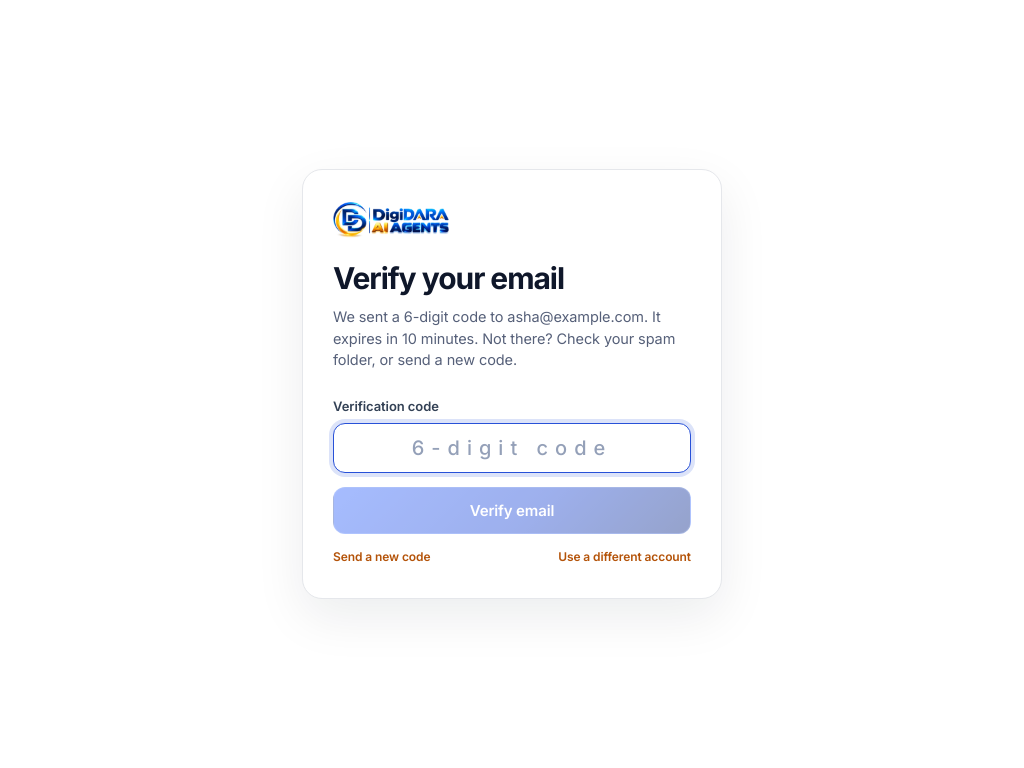
Test case: a new code can be requested, and the cooldown message is shown
Click the button "Send a new code": coordinates (382, 557) [333,548,430,566]
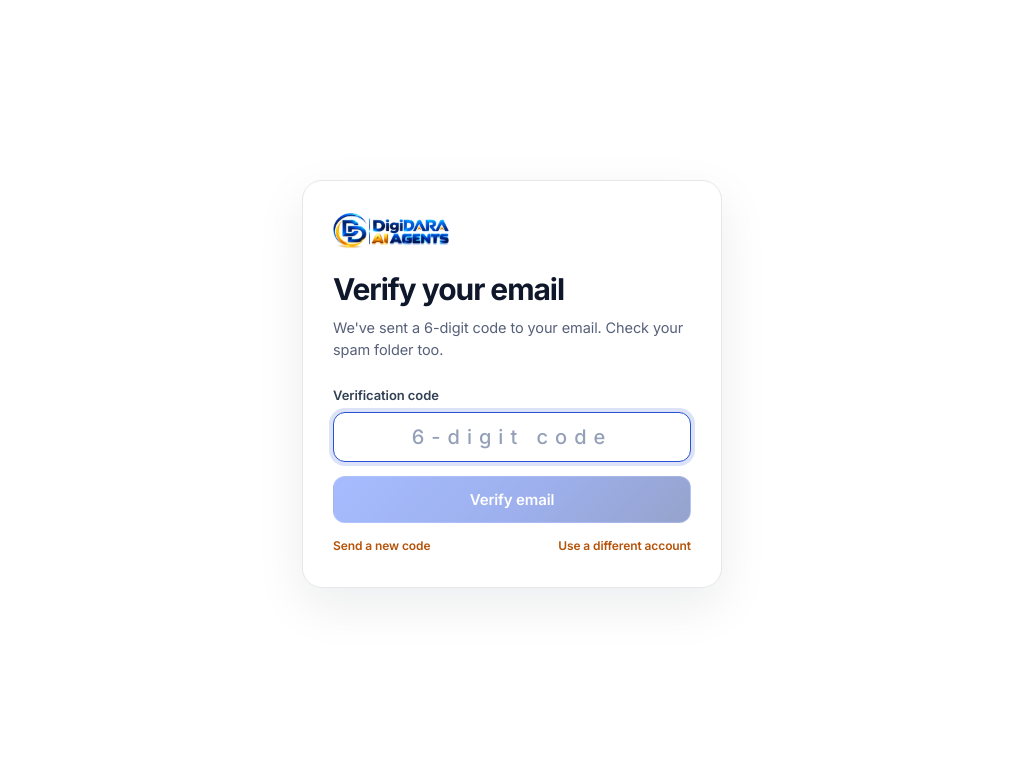
Expected: the message reads "We've sent a 6-digit code to your email. Check your spam folder too.", [333,319,683,358]
Click the button "Send a new code": coordinates (382, 546) [333,537,430,555]
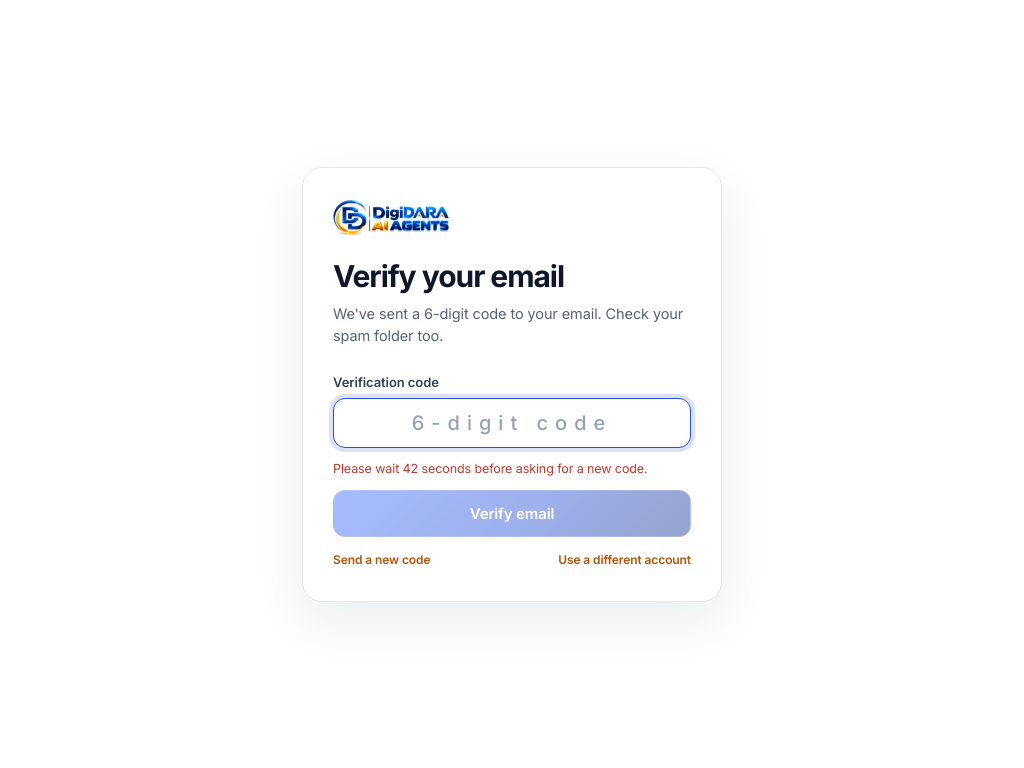
Expected: the message "Please wait 42 seconds before asking for a new code." is shown, [333,460,691,478]
